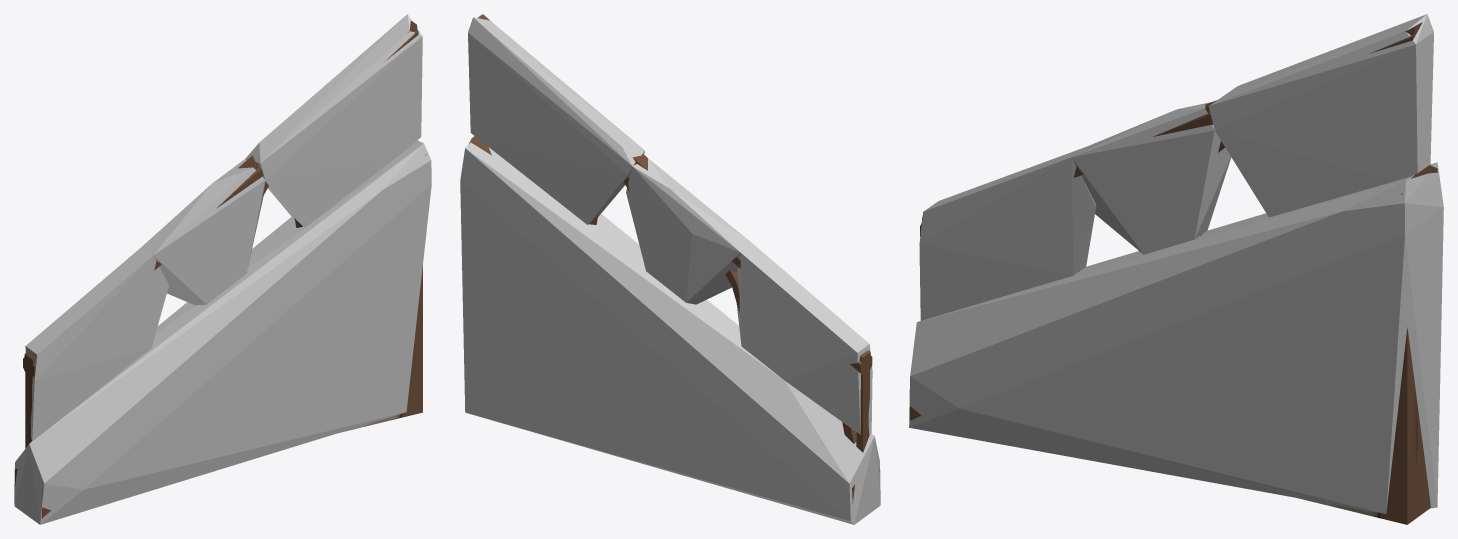
The model's file is SM_Bld_Stairs_Railing_Slope_01.fbx.
3 renders of one model, left to right at view 1: azimuth 30°, elevation 25°; view 2: azimuth 150°, elevation 25°; view 3: azimuth 330°, elevation 25°, orthographic. The views are drawn at different scales.
Visible parts, largest first — view 1: SM_Bld_Stairs_Railing_Slope_01_ConvexHulls, SM_Bld_Stairs_Railing_Slope_01; view 2: SM_Bld_Stairs_Railing_Slope_01_ConvexHulls, SM_Bld_Stairs_Railing_Slope_01; view 3: SM_Bld_Stairs_Railing_Slope_01_ConvexHulls, SM_Bld_Stairs_Railing_Slope_01.
Part boxes in pixels (x1,y1,x2,y2): SM_Bld_Stairs_Railing_Slope_01_ConvexHulls: [14, 14, 431, 524]; SM_Bld_Stairs_Railing_Slope_01: [15, 20, 426, 518]; SM_Bld_Stairs_Railing_Slope_01_ConvexHulls: [460, 17, 880, 524]; SM_Bld_Stairs_Railing_Slope_01: [468, 14, 879, 504]; SM_Bld_Stairs_Railing_Slope_01_ConvexHulls: [909, 14, 1443, 513]; SM_Bld_Stairs_Railing_Slope_01: [910, 22, 1437, 524].
Bounding box in the file's own units: 255 × 34.44 × 251.
Materials: 3 (2 with a texture image).
